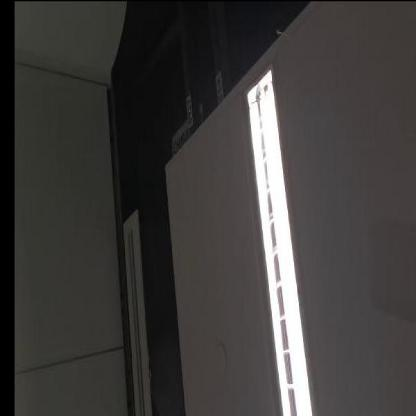light_on: (236, 64, 324, 415)
